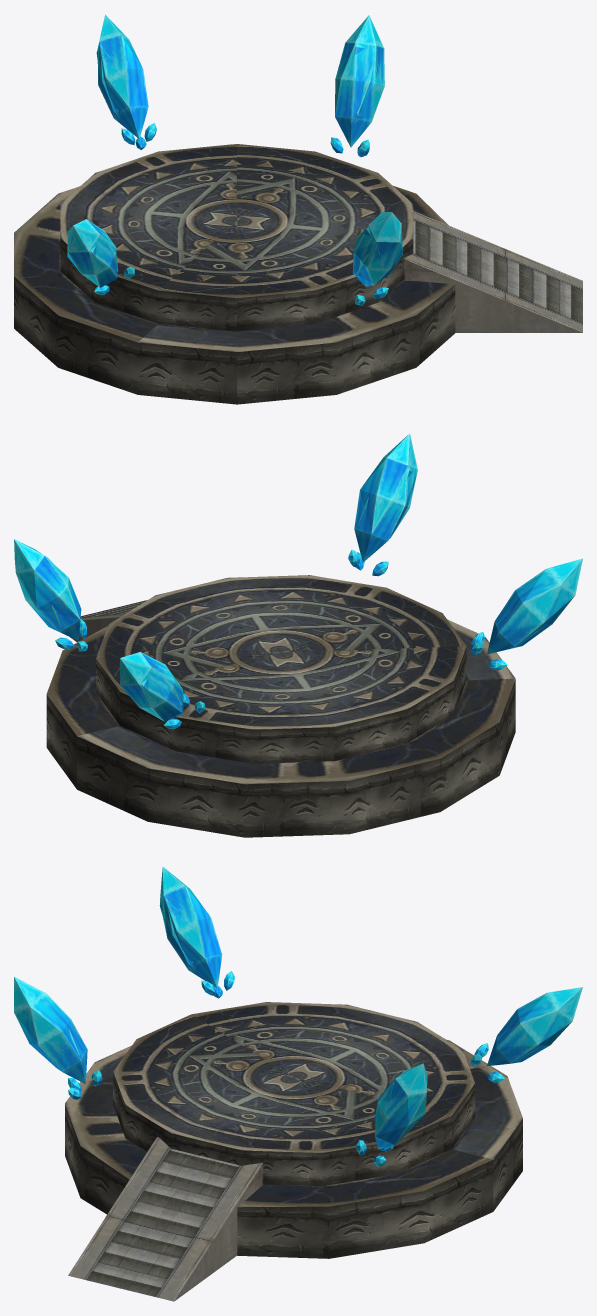
File: show.fbx
The picture shows the model from 3 angles, top to bottom: view 1: azimuth 30°, elevation 25°; view 2: azimuth 150°, elevation 25°; view 3: azimuth 270°, elevation 25°; orthographic projection. The views are drawn at different scales.
Parts seen in each view (by area): view 1: 4, GeoSphere02, GeoSphere05, GeoSphere07, GeoSphere06; view 2: 4, GeoSphere07, GeoSphere06, GeoSphere02, GeoSphere05; view 3: 4, GeoSphere06, GeoSphere07, GeoSphere05, GeoSphere02.
Boxes of the visible parts, x1=… form: 4: x1=14, y1=144, x2=582, y2=404; GeoSphere02: x1=330, y1=15, x2=384, y2=156; GeoSphere05: x1=96, y1=14, x2=156, y2=149; GeoSphere07: x1=352, y1=212, x2=402, y2=305; GeoSphere06: x1=67, y1=219, x2=134, y2=295; 4: x1=46, y1=575, x2=515, y2=837; GeoSphere07: x1=348, y1=433, x2=417, y2=576; GeoSphere06: x1=471, y1=558, x2=582, y2=670; GeoSphere02: x1=14, y1=539, x2=87, y2=651; GeoSphere05: x1=120, y1=652, x2=205, y2=729; 4: x1=65, y1=1002, x2=522, y2=1301; GeoSphere06: x1=159, y1=866, x2=234, y2=998; GeoSphere07: x1=14, y1=977, x2=102, y2=1099; GeoSphere05: x1=470, y1=987, x2=582, y2=1082; GeoSphere02: x1=356, y1=1063, x2=427, y2=1166.
Bounding box in the file's own units: 41.99 × 15.28 × 40.28.
Materials: 4 (4 with a texture image).
